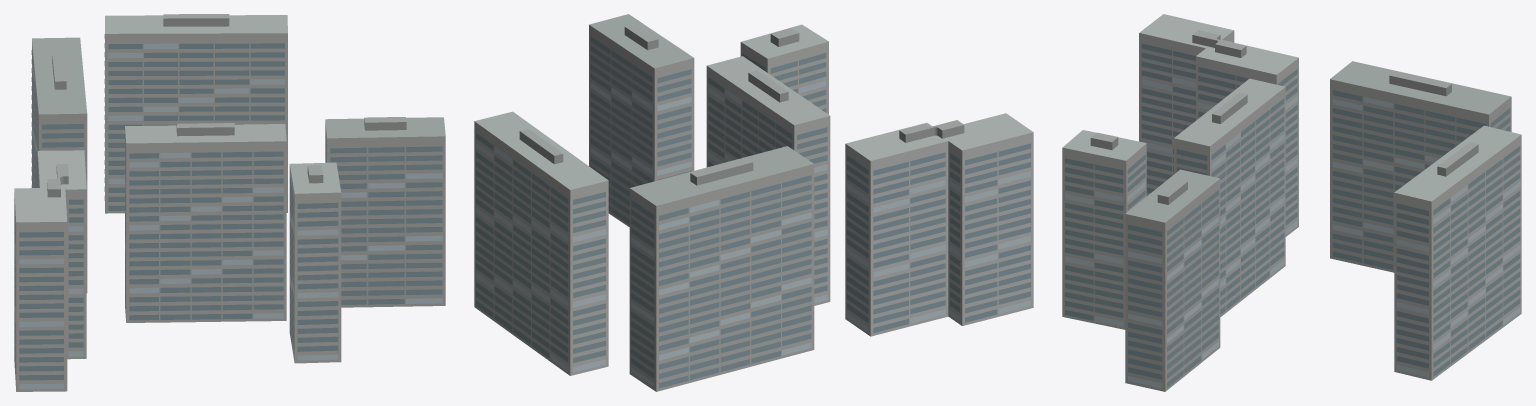
The model's file is apt-a15786424.glb.
The picture shows the model from 3 angles, left to right: view 1: azimuth 30°, elevation 25°; view 2: azimuth 150°, elevation 25°; view 3: azimuth 270°, elevation 25°; orthographic projection. The views are drawn at different scales.
Parts seen in each view (by area): view 1: apt-a15786424; view 2: apt-a15786424; view 3: apt-a15786424.
Part boxes in pixels (x1,y1,x2,y2): apt-a15786424: (14,14,445,391); apt-a15786424: (474,14,1033,391); apt-a15786424: (1062,14,1521,391).
Size of the model in its own units: 131 by 55 by 122.
